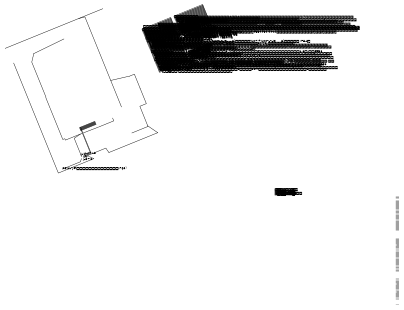room: (148, 259, 180, 278), (150, 255, 182, 271), (173, 294, 204, 310), (175, 290, 206, 306), (176, 286, 207, 302), (178, 282, 209, 298), (140, 281, 171, 297), (142, 277, 173, 293), (143, 273, 174, 289), (145, 269, 176, 285), (154, 248, 185, 264), (155, 244, 186, 260), (157, 240, 188, 256), (179, 279, 210, 294), (146, 266, 177, 281), (152, 252, 183, 267), (276, 113, 295, 119)
wall: (190, 255, 207, 264), (188, 260, 206, 268), (189, 258, 206, 266), (191, 254, 208, 261), (189, 255, 192, 262), (192, 256, 195, 263), (204, 261, 207, 268), (188, 254, 191, 261), (205, 261, 208, 268), (190, 255, 192, 262), (203, 260, 205, 267)
